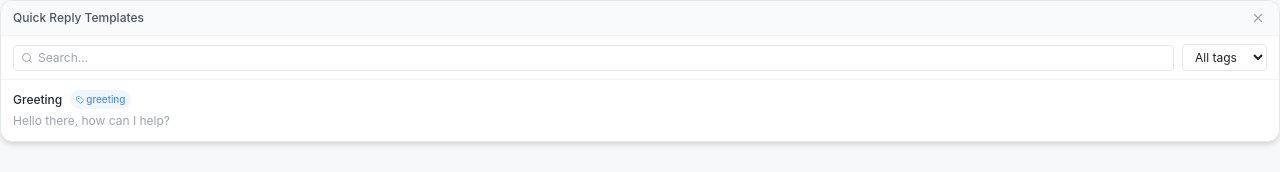
TemplatePicker › shows "No matches" when a search excludes every template
The width and height of the screenshot is (1280, 172).
Expected: the text "Greeting" is shown, x1=13 y1=92 x2=62 y2=108
Type "nonexistent" into the field with placeholder "Search…" at (594, 58), box x1=13 y1=45 x2=1174 y2=71
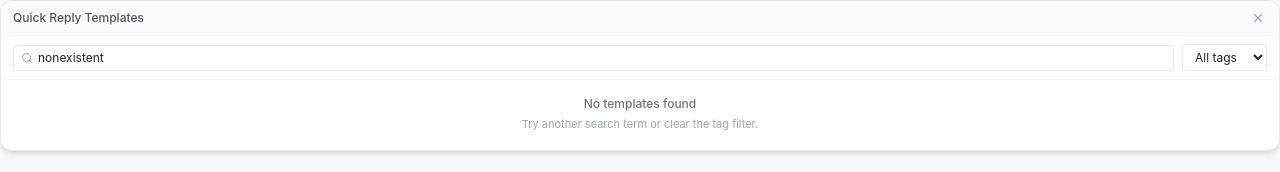
Now the text "No templates found" is shown, box x1=584 y1=96 x2=696 y2=111
